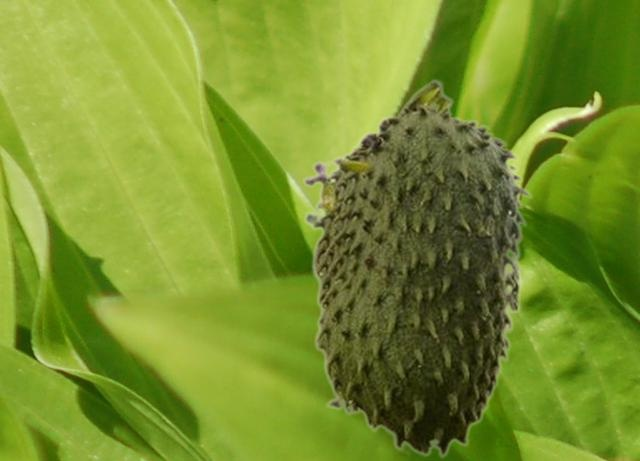guyabano: (303, 77, 532, 457)
